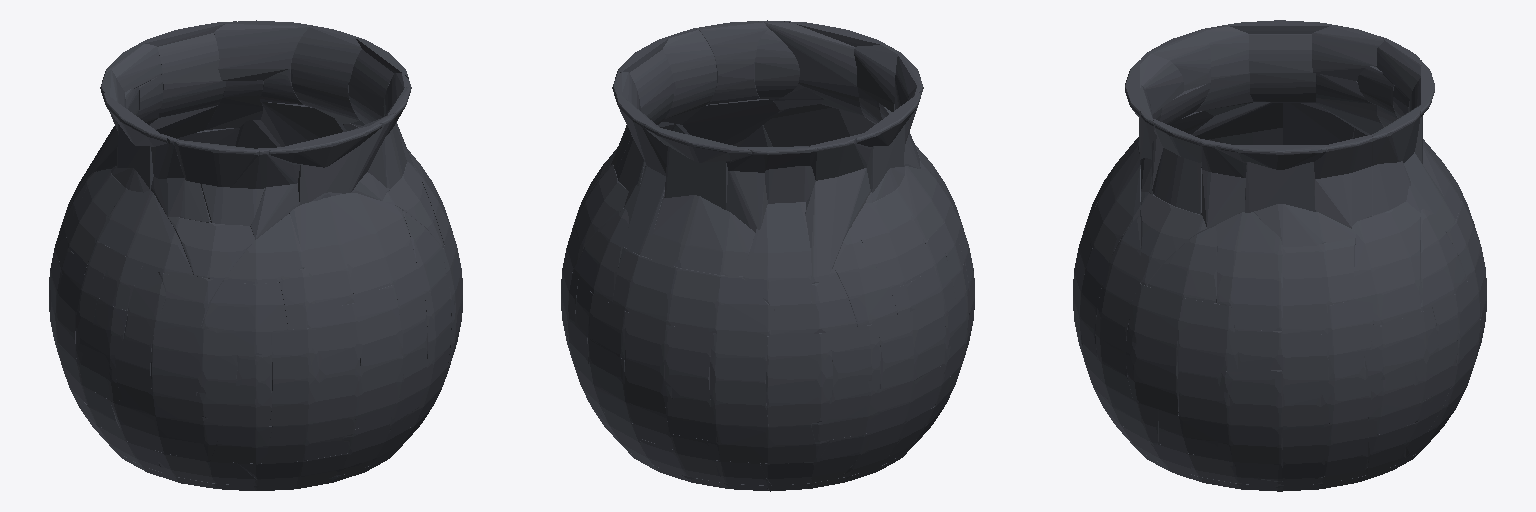
URDF robot description (../obj/vase.urdf):
<?xml version="1.0" ?>
<robot name="../obj/vase.urdf">
  <link name="baseLink">
    <inertial>
      <origin rpy="0 0 0" xyz="-0.0003 0.0003 -0.0067"/>
       <mass value="50"/>
       <inertia ixx="2.352794823113073e-07" ixy="-3.201925745219967e-10" ixz="2.203683609115271e-10" iyy="2.3768253911228702e-07" iyz="1.0021513181689745e-09" izz="2.3944290404490437e-07"/>
    </inertial>
    <visual>
      <origin rpy="0 0 0" xyz="-0.0003 0.0003 -0.0067"/>
      <geometry>
        <mesh filename="../obj/vase_vhacd.obj" 
		scale="9.0 9.0 9.0"/>
      </geometry>
     <material name="grey">
      <color rgba="0.32 0.33 0.36 1"/>
     </material>
    </visual>
    <collision>
      <origin rpy="0 0 0" xyz="-0.0003 0.0003 -0.0067"/>
      <geometry>
        <mesh filename="../obj/vase_vhacd.obj" scale="9.0 9.0 9.0"/>
      </geometry>
    </collision>
  </link>
</robot>
        

--- Facts derived from the render (not from the file) ---
Views: 3 orthographic renders of the robot side by side, from view 1: azimuth 30°, elevation 25°; view 2: azimuth 150°, elevation 25°; view 3: azimuth 270°, elevation 25°.
Model ../obj/vase.urdf with 1 links and 0 joints (none), rooted at baseLink, posed all joints at 0.
Visible links, largest first — view 1: baseLink; view 2: baseLink; view 3: baseLink.
Link boxes in pixels (x1=…): baseLink: x1=49, y1=20, x2=462, y2=490; baseLink: x1=561, y1=20, x2=974, y2=491; baseLink: x1=1073, y1=20, x2=1486, y2=491.
Size in the robot's own frame: 0.9508 by 0.9512 by 0.8665 metres.
1 mesh visuals loaded from 1 distinct referenced files (1 OBJ).